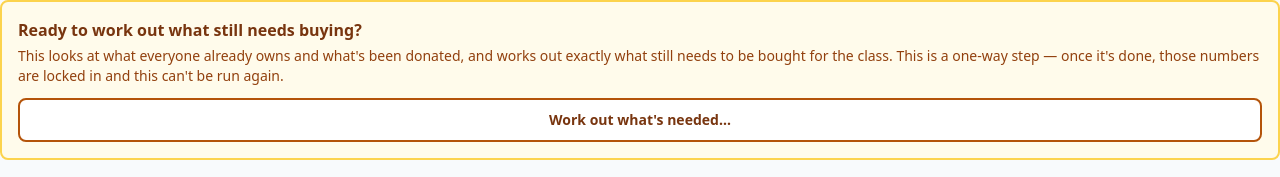
ReconcileAction › lets a cancel on the confirming step back out without calling the API
Click the button "Work out what's needed…".
click(640, 120)  # box top-left (18, 98), bottom-right (1262, 142)
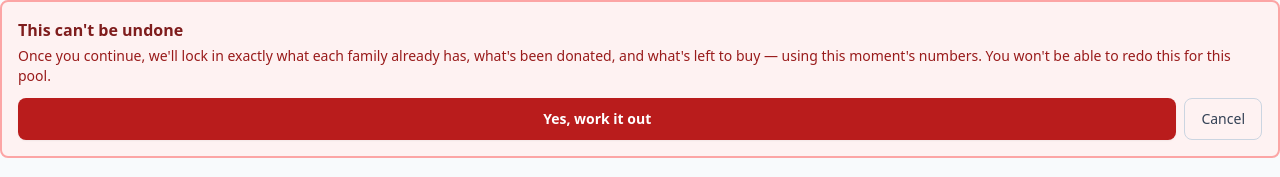
Click the button "Cancel".
click(1223, 119)  # box top-left (1184, 98), bottom-right (1262, 140)
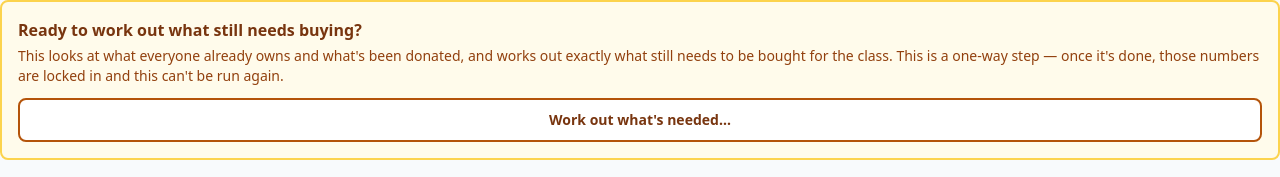
Now the button "Work out what's needed…" is shown, box top-left (18, 98), bottom-right (1262, 142)
